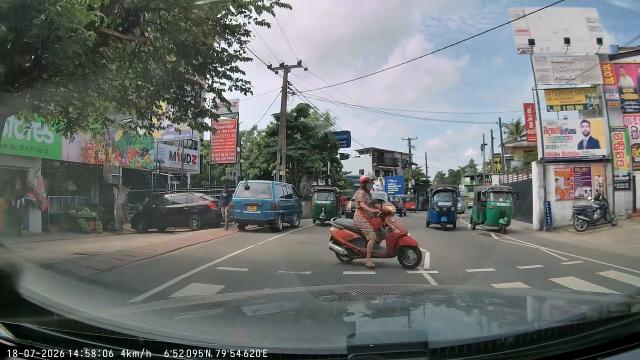illegal u turn: (324, 160, 426, 273)
